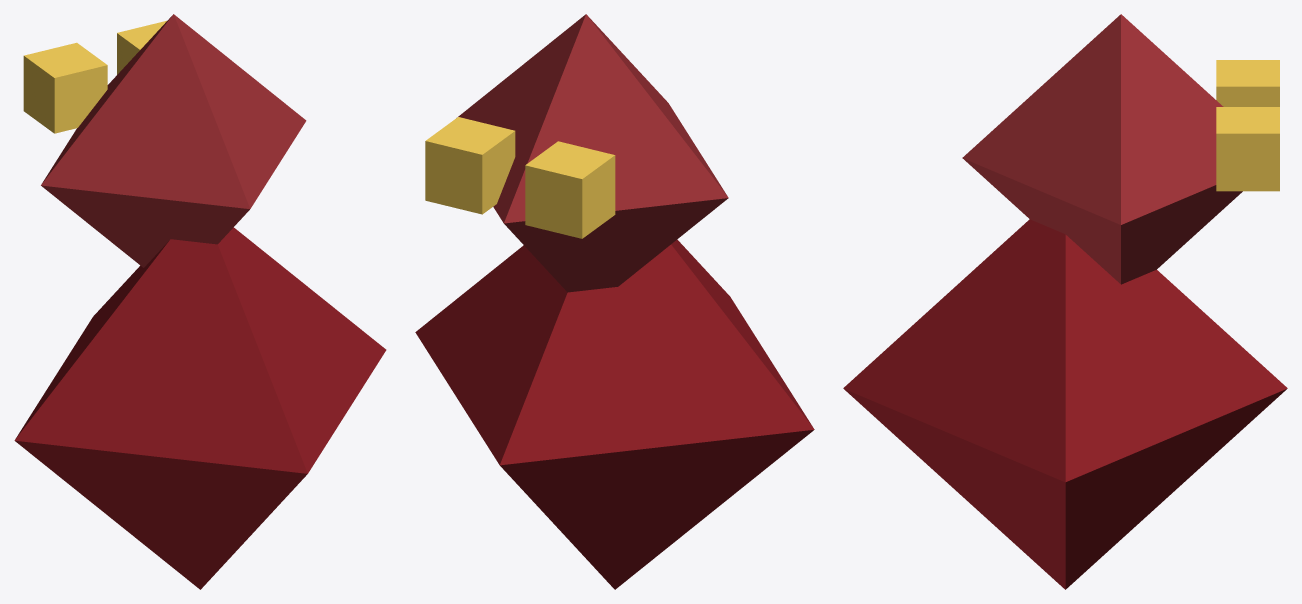
The model's file is enemy.obj.
The picture shows the model from 3 angles, left to right: view 1: azimuth 30°, elevation 25°; view 2: azimuth 150°, elevation 25°; view 3: azimuth 270°, elevation 25°; orthographic projection. The views are drawn at different scales.
Parts seen in each view (by area): view 1: Body, Head, Eyes; view 2: Body, Head, Eyes; view 3: Body, Head, Eyes.
Boxes of the visible parts, x1,y1,x2,y2 form: Body: [14, 227, 386, 589]; Head: [41, 14, 306, 267]; Eyes: [23, 20, 166, 133]; Body: [415, 239, 814, 589]; Head: [458, 14, 728, 292]; Eyes: [425, 117, 615, 238]; Body: [843, 219, 1287, 589]; Head: [962, 14, 1242, 284]; Eyes: [1216, 60, 1279, 191].
Bounding box in the file's own units: 0.28 × 0.4 × 0.28.
